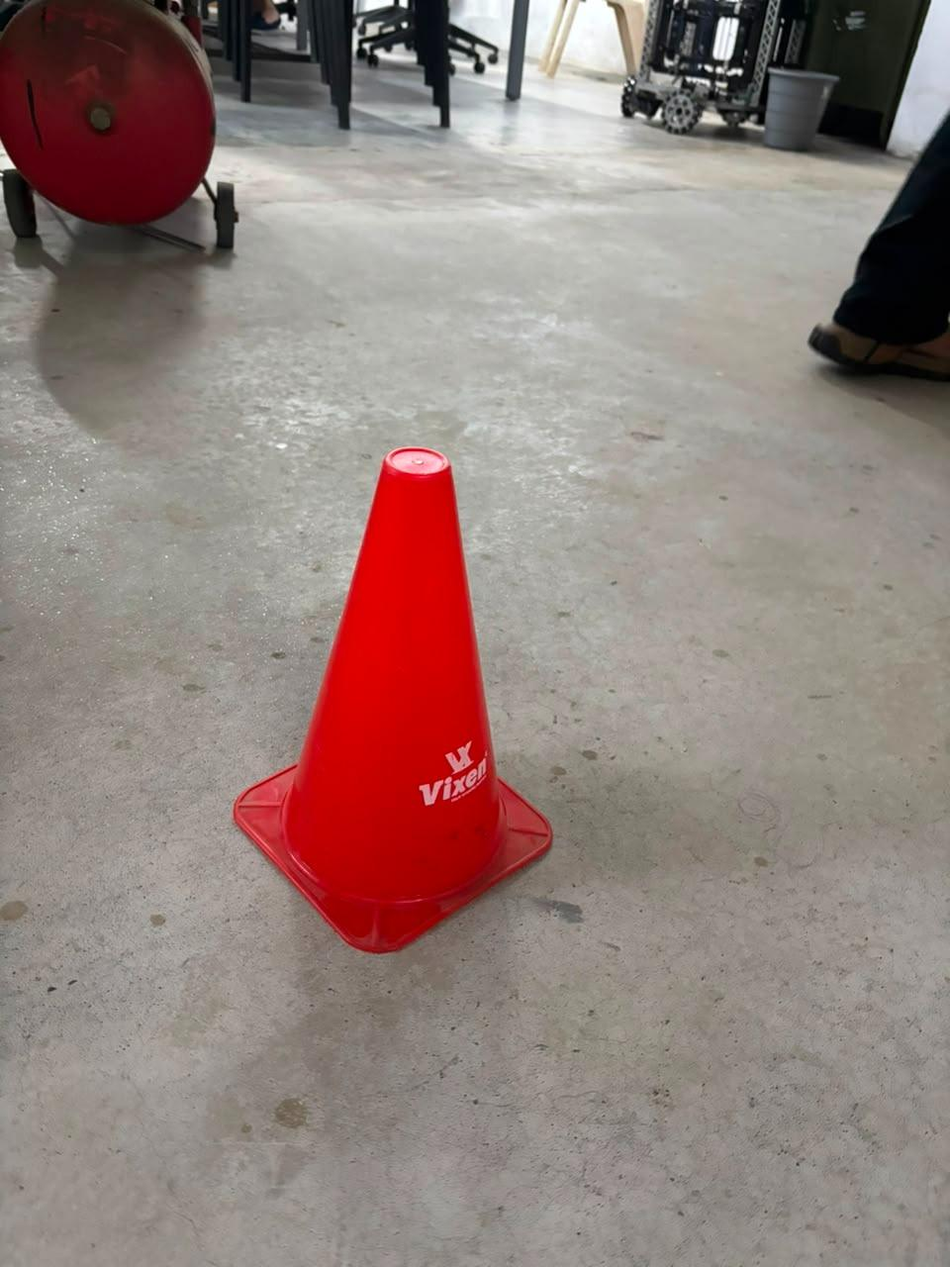0 cone: (234, 447, 550, 952)
